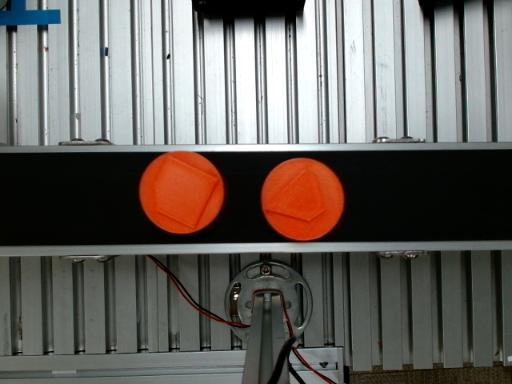Not_Square: (156, 155, 220, 230), (264, 167, 326, 222)
Orange_Waper: (262, 158, 344, 241), (139, 152, 223, 233)
